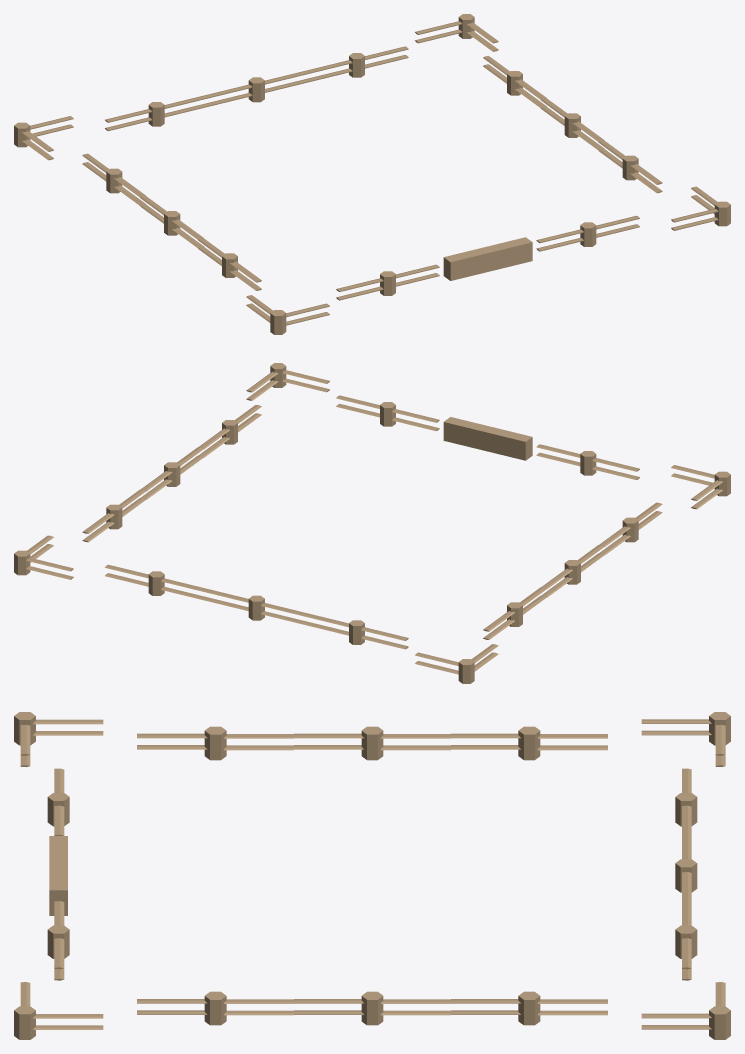
The model's file is building_pen_foundation.glb.
The picture shows the model from 3 angles, top to bottom: view 1: azimuth 30°, elevation 25°; view 2: azimuth 150°, elevation 25°; view 3: azimuth 270°, elevation 25°; orthographic projection. The views are drawn at different scales.
Visible parts, largest first — view 1: building_pen_foundation; view 2: building_pen_foundation; view 3: building_pen_foundation.
Part boxes in pixels (x1,y1,x2,y2): building_pen_foundation: [14, 14, 730, 334]; building_pen_foundation: [14, 363, 730, 683]; building_pen_foundation: [14, 712, 730, 1039].
Bounding box in the file's own units: 4.56 × 0.18 × 4.57.
